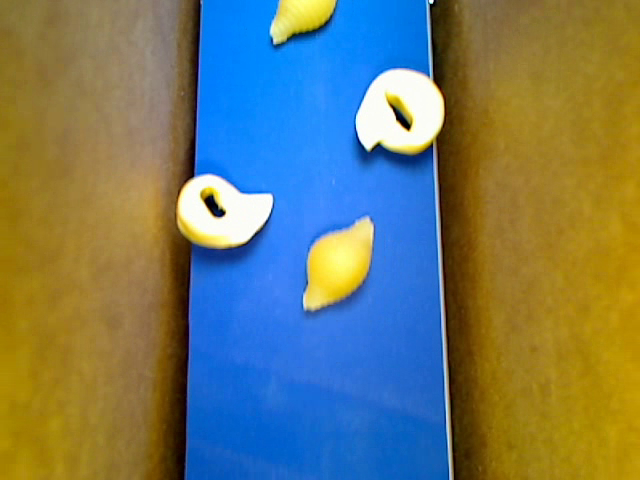shell: (301, 215, 374, 312), (268, 1, 336, 47)
tortellini: (355, 68, 445, 157), (176, 173, 273, 249)
